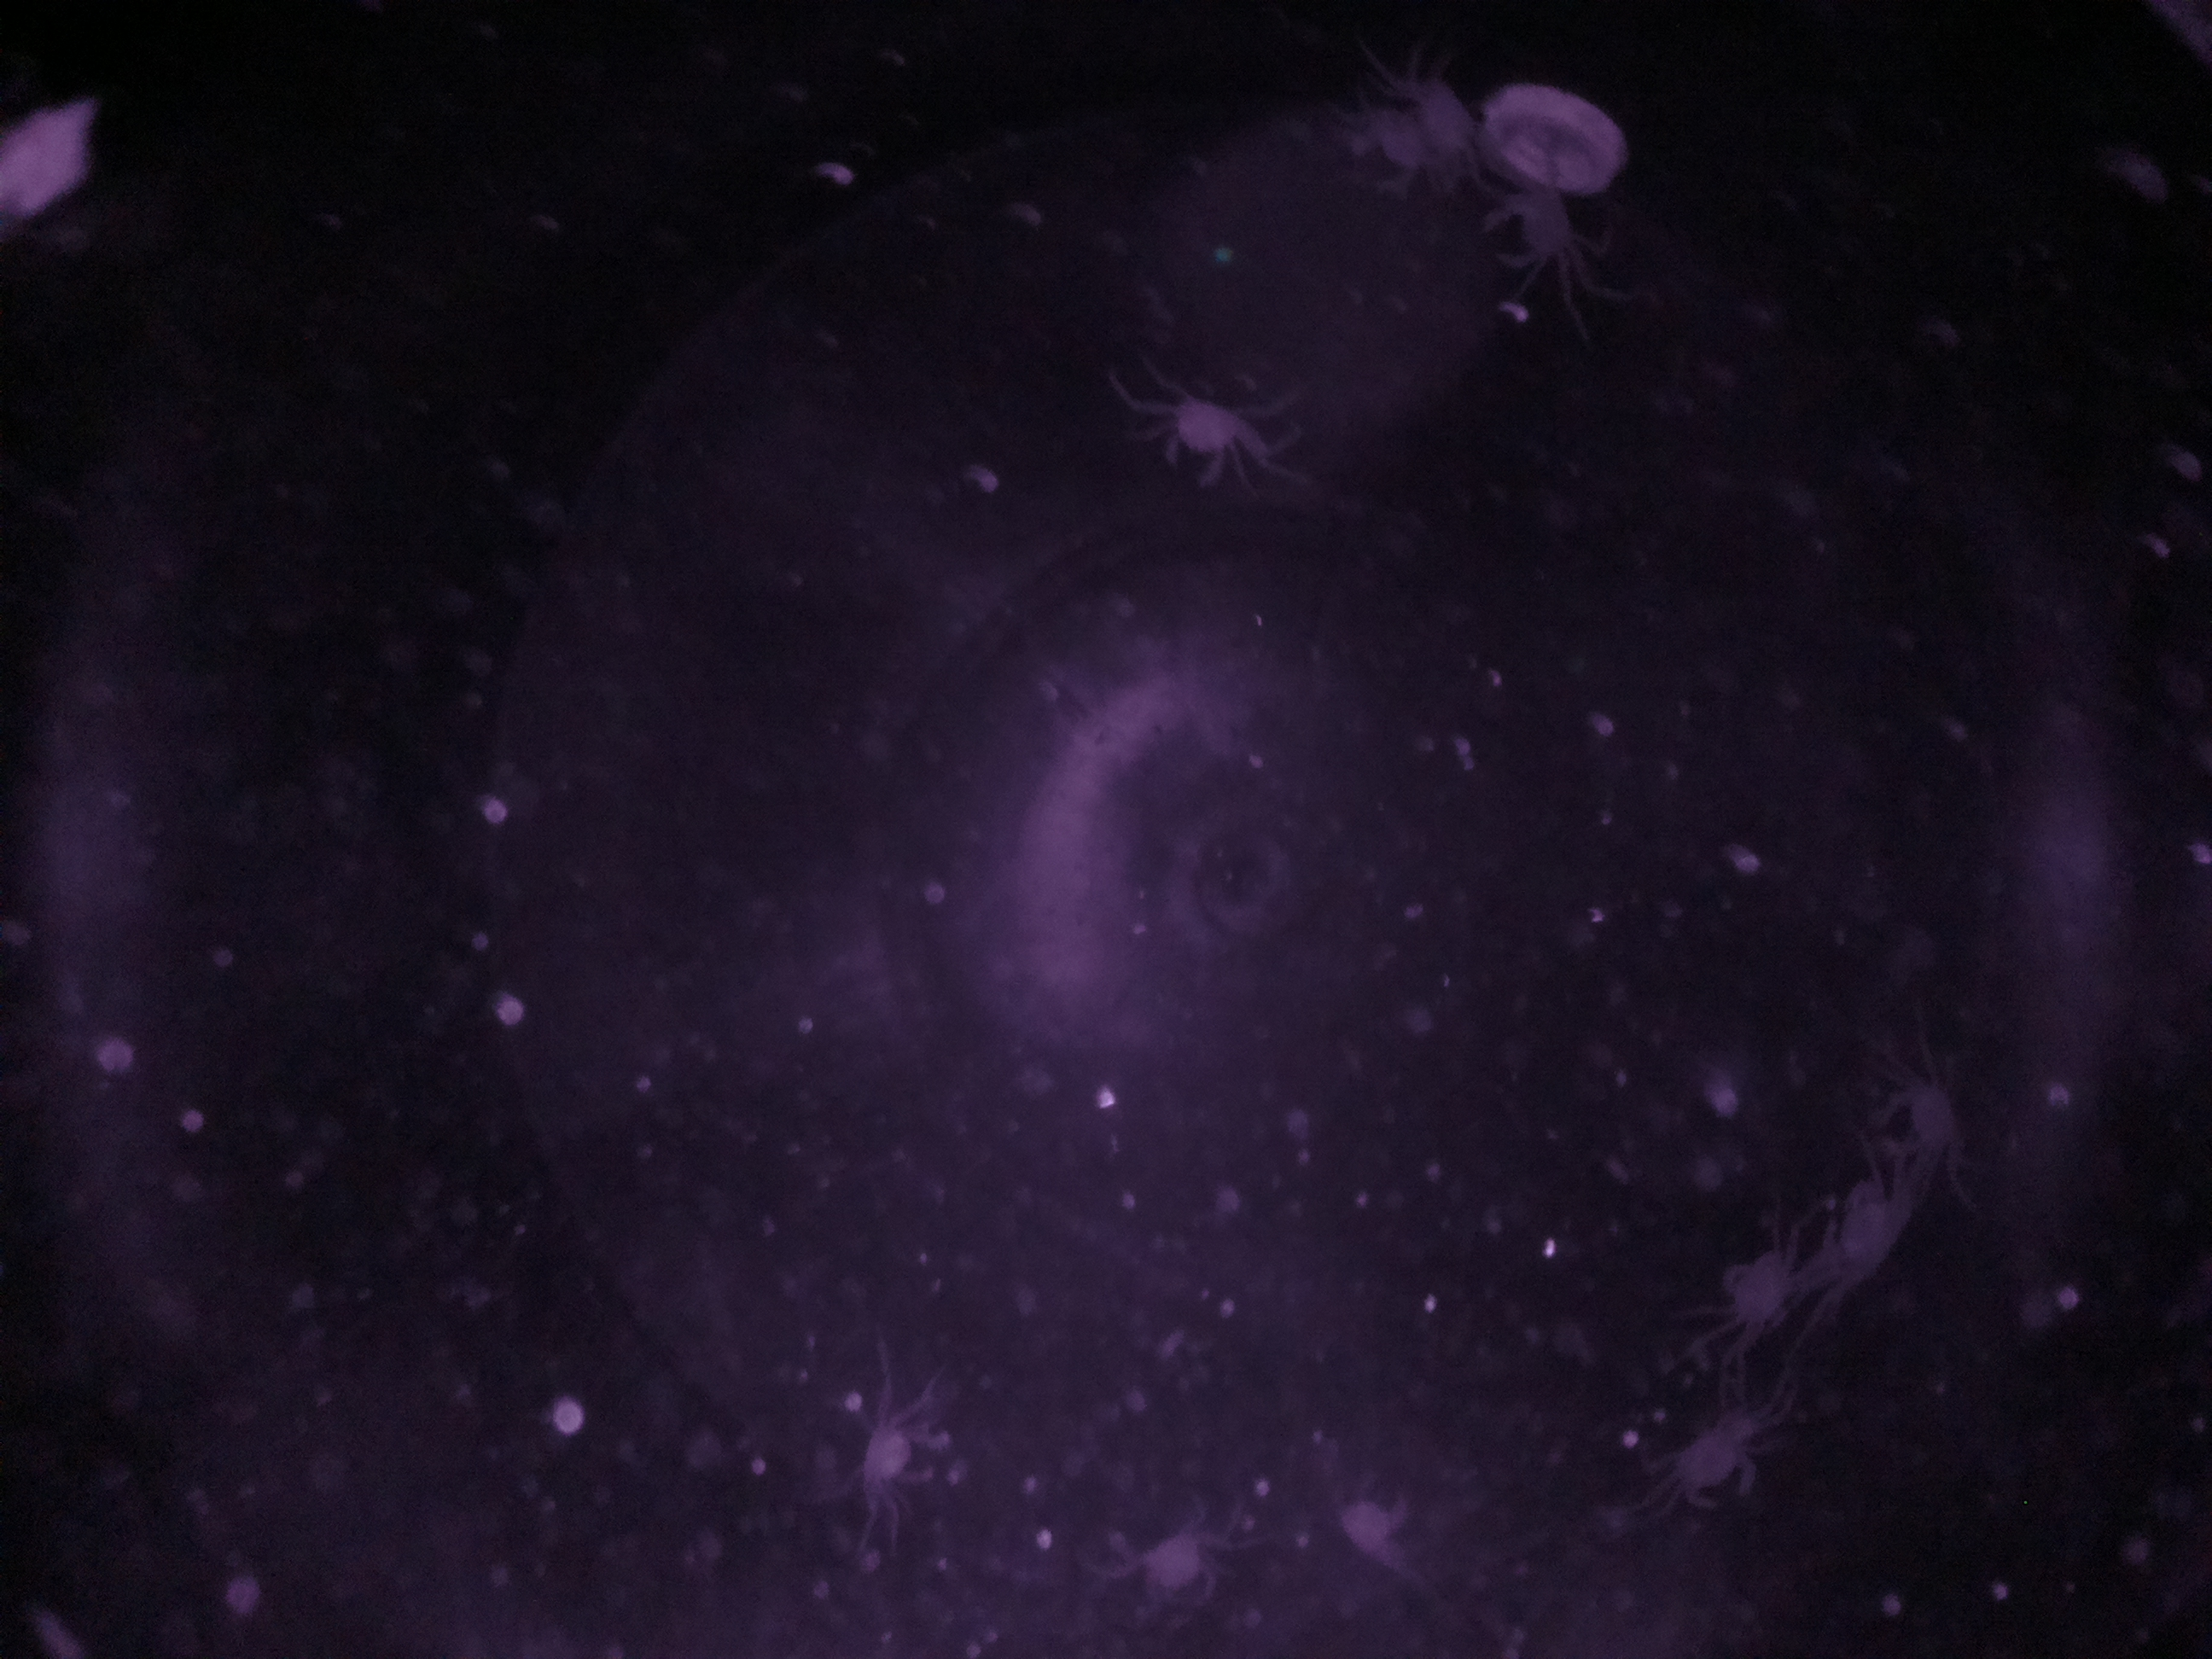Crab: (1804, 1168, 1942, 1303), (1482, 173, 1608, 295), (1649, 1405, 1770, 1530), (838, 1394, 956, 1513), (1151, 373, 1252, 497)
